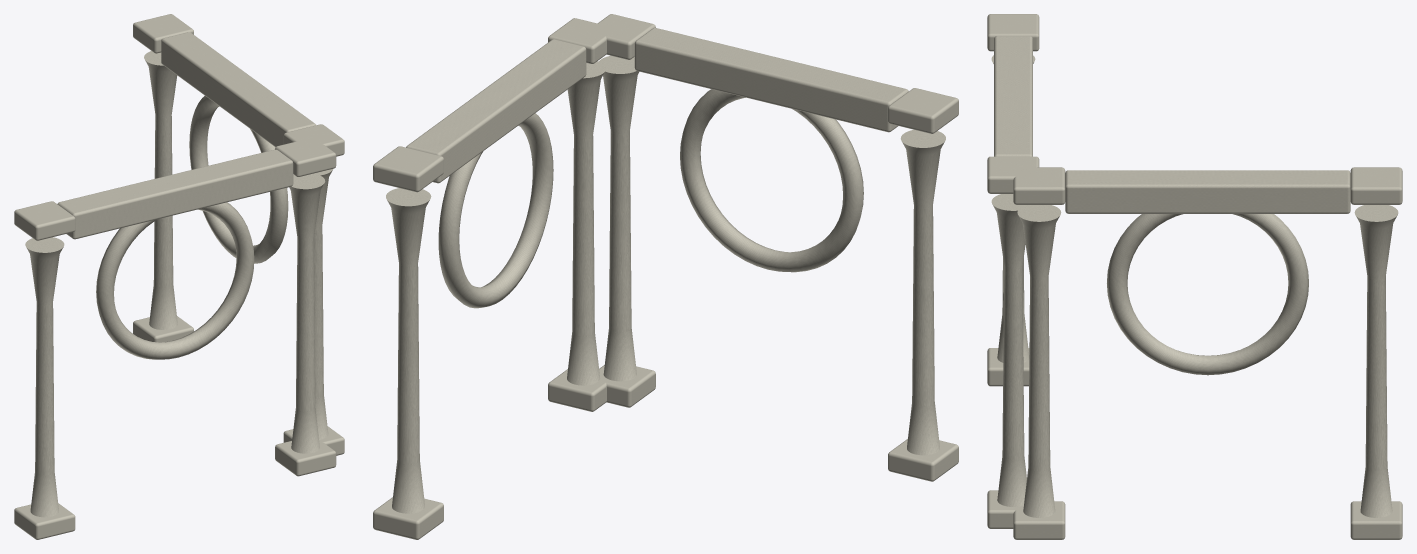
File: arcane-academy-and-spell-trials-arcade-corner-555daf39__28281.glb
The picture shows the model from 3 angles, left to right: view 1: azimuth 30°, elevation 25°; view 2: azimuth 150°, elevation 25°; view 3: azimuth 270°, elevation 25°; orthographic projection. The views are drawn at different scales.
Parts seen in each view (by area): view 1: arcade-corner; view 2: arcade-corner; view 3: arcade-corner.
Boxes of the visible parts, bbox=[...] form: arcade-corner: bbox=[14, 14, 344, 539]; arcade-corner: bbox=[373, 14, 958, 539]; arcade-corner: bbox=[987, 14, 1402, 539].
Bounding box in the file's own units: 3.2 × 3 × 3.2.
Materials: 1 (1 with a texture image).
